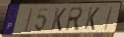5: (33, 7, 50, 33)
I: (103, 5, 115, 32), (23, 7, 35, 33)
K: (83, 7, 101, 32), (49, 7, 67, 32)
R: (64, 6, 85, 33)
